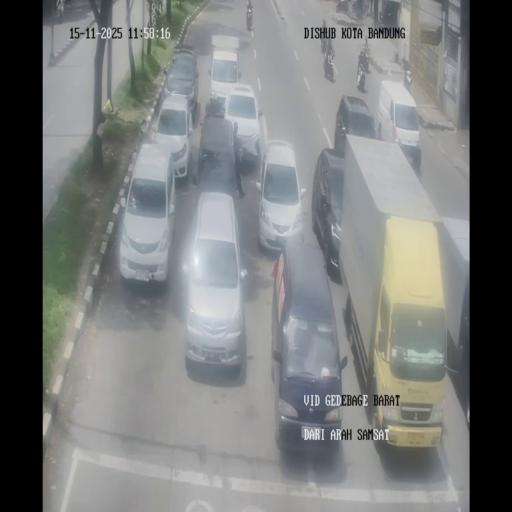3: (337, 134, 464, 447), (211, 33, 239, 54)
car: (272, 242, 344, 454), (182, 192, 247, 371), (118, 143, 176, 284), (256, 137, 304, 256), (314, 148, 346, 279), (378, 80, 422, 170), (222, 82, 262, 166), (163, 46, 200, 124), (336, 93, 378, 154)
truck: (356, 60, 367, 92), (324, 52, 335, 82), (320, 18, 328, 54), (402, 65, 413, 90), (363, 38, 371, 62), (246, 7, 253, 30), (57, 0, 64, 22), (154, 0, 163, 15), (362, 0, 368, 17), (351, 0, 357, 15), (378, 10, 384, 24), (335, 0, 339, 11)
